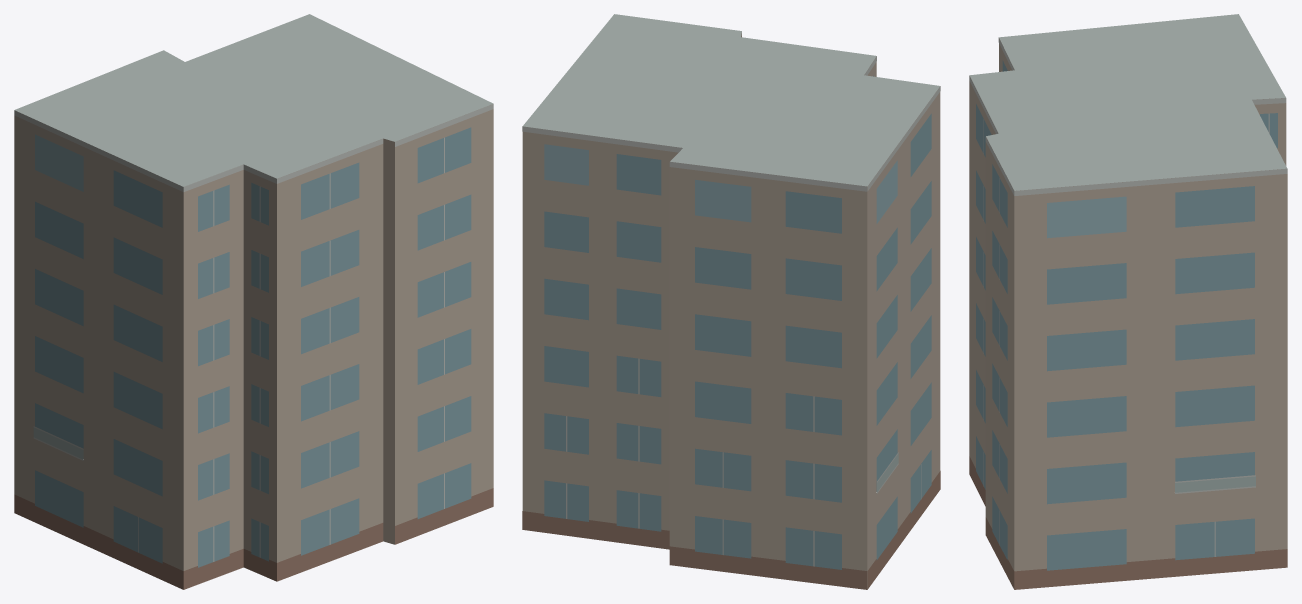
The model's file is survey-upis-33023422.glb.
The picture shows the model from 3 angles, left to right: view 1: azimuth 30°, elevation 25°; view 2: azimuth 150°, elevation 25°; view 3: azimuth 270°, elevation 25°; orthographic projection.
Visible parts, largest first — view 1: survey-upis-33023422.tmp; view 2: survey-upis-33023422.tmp; view 3: survey-upis-33023422.tmp.
Boxes of the visible parts, x1,y1,x2,y2 form: survey-upis-33023422.tmp: [14, 14, 493, 589]; survey-upis-33023422.tmp: [522, 14, 940, 589]; survey-upis-33023422.tmp: [969, 14, 1287, 589].
Size of the model in its own units: 17.7 by 18.6 by 13.45.
